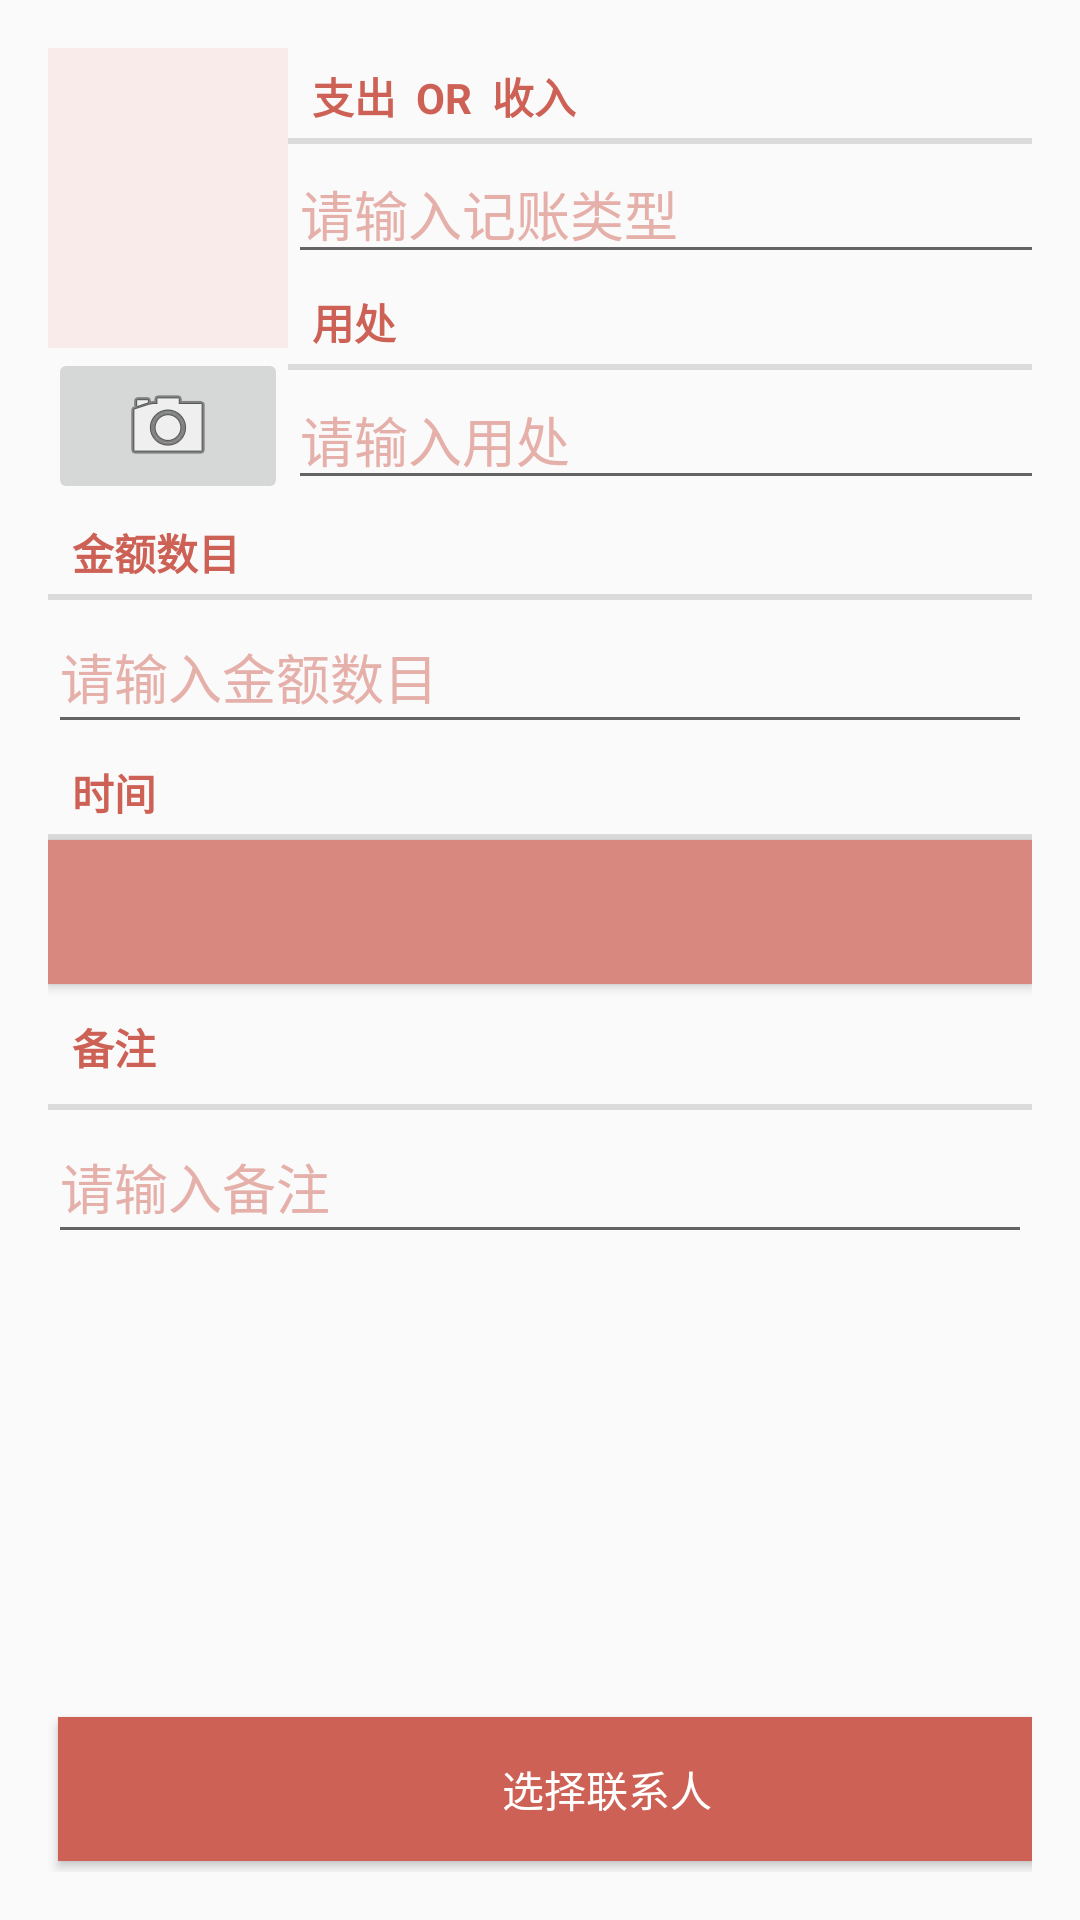

Named icons in this screenshot (1080w x 1920h) and their centers, (x,y):
camera: (168,426)
